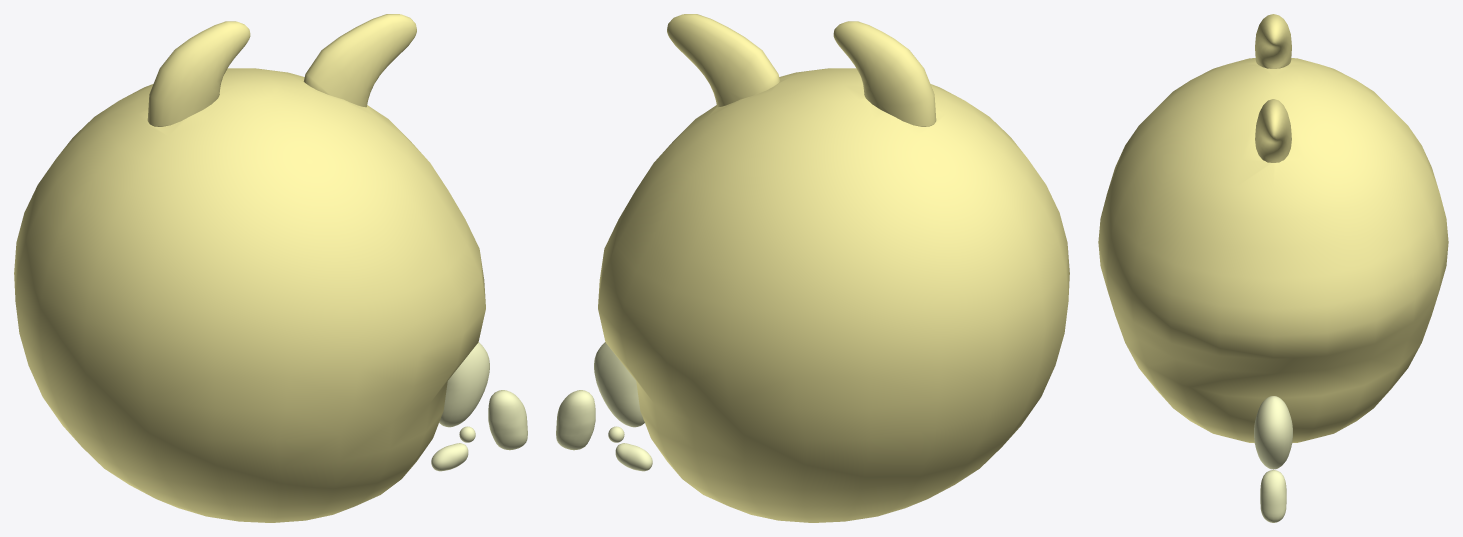
The picture shows the model from 3 angles, left to right: view 1: azimuth 30°, elevation 25°; view 2: azimuth 150°, elevation 25°; view 3: azimuth 270°, elevation 25°; orthographic projection. The views are drawn at different scales.
Parts seen in each view (by area): view 1: pSphere18, pSphere28, pSphere27, pSphere26; view 2: pSphere18, pSphere28, pSphere27, pSphere26; view 3: pSphere18, pSphere28, pSphere27.
Boxes of the visible parts, left/top/right/bottom form: pSphere18: left=14, top=14, right=485, bottom=522; pSphere28: left=439, top=342, right=489, bottom=427; pSphere27: left=488, top=390, right=527, bottom=450; pSphere26: left=431, top=443, right=468, bottom=471; pSphere18: left=598, top=14, right=1069, bottom=522; pSphere28: left=594, top=342, right=644, bottom=427; pSphere27: left=556, top=390, right=595, bottom=450; pSphere26: left=615, top=443, right=652, bottom=471; pSphere18: left=1098, top=14, right=1448, bottom=443; pSphere28: left=1254, top=396, right=1292, bottom=469; pSphere27: left=1260, top=470, right=1286, bottom=522.
Bounding box in the file's own units: 3.82 × 3.76 × 3.02.
